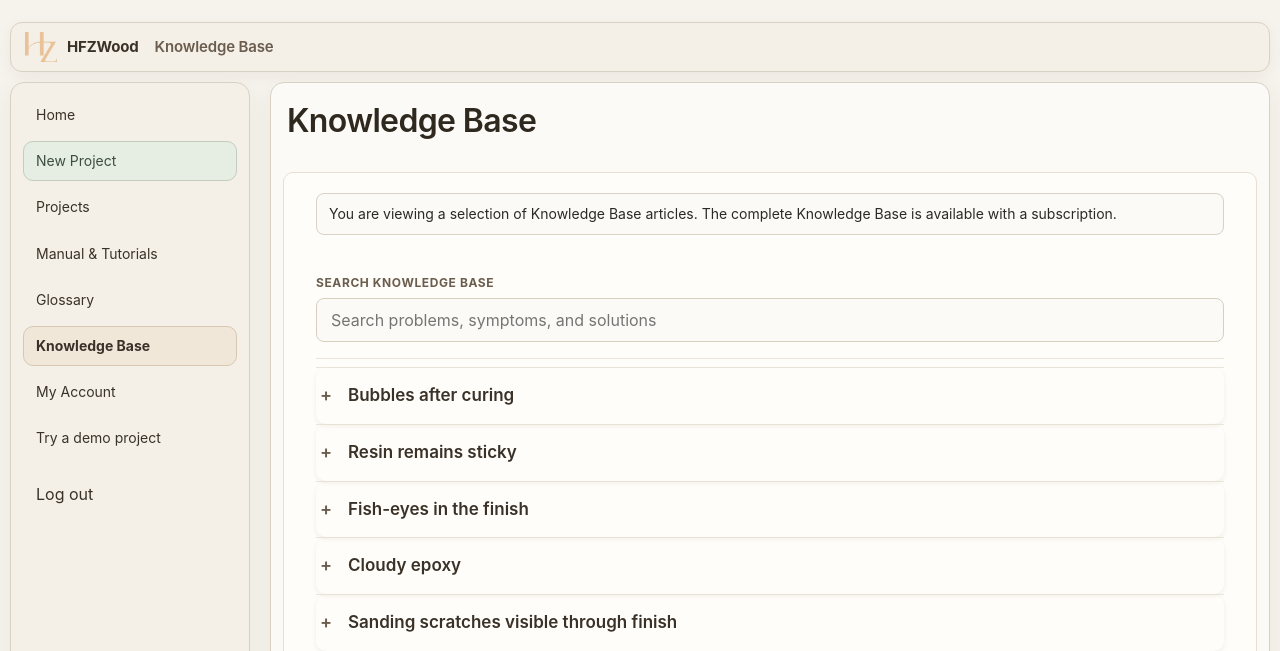
Test: KnowledgeBasePage › collapses the expanded article when it is no longer in the filtered results
The image size is (1280, 651).
Expected: the search field labelled "Search knowledge base" is shown, [316,298,1224,342]
Click the button "+ Resin remains sticky". click: {"x": 432, "y": 452}
box: [316,425,1224,481]
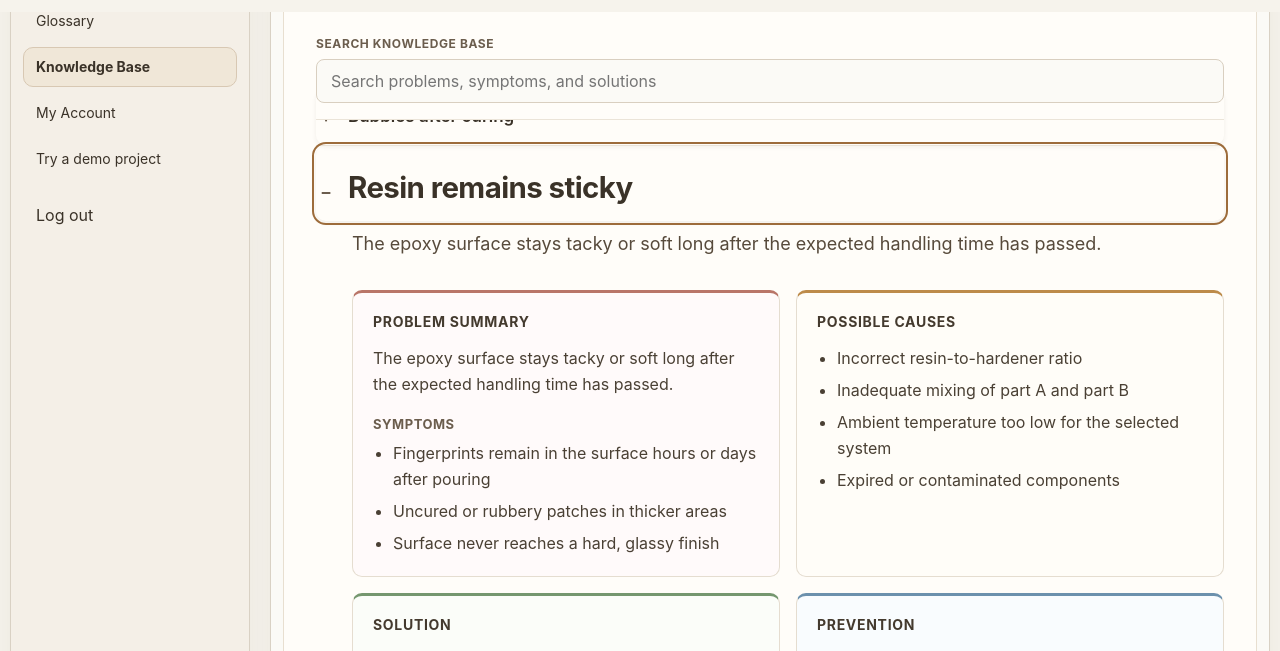
Now the button "− Resin remains sticky" is expanded, box [316,146,1224,221]
Type "cloudy" into the search field labelled "Search knowledge base". click: {"x": 770, "y": 81}
box: [316,59,1224,103]
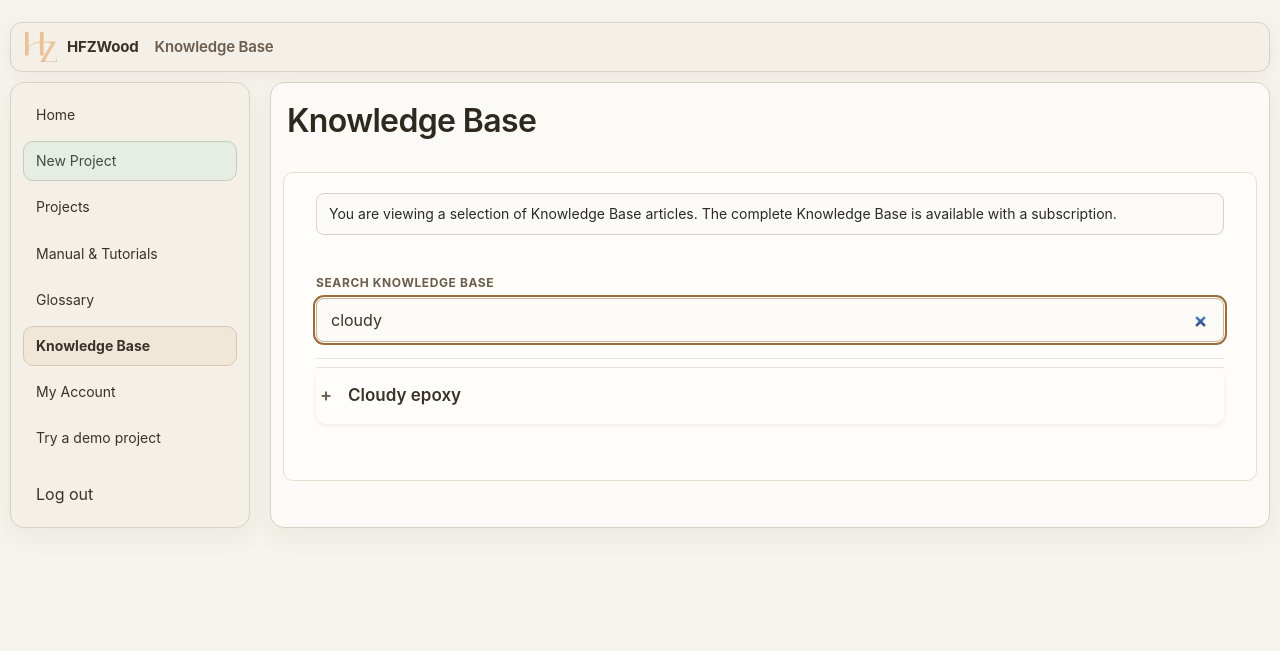
Now the button "Resin remains sticky" is gone
Now the heading "Solution" is gone
